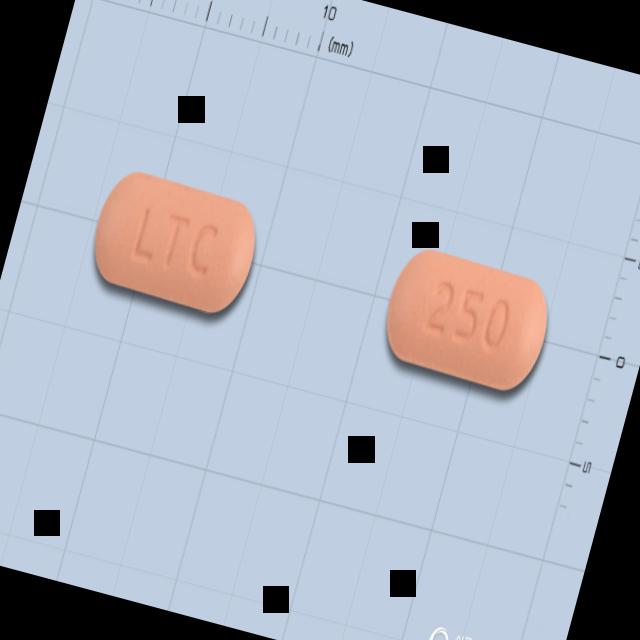Ciquroby: (374, 242, 560, 399), (83, 164, 267, 320)
